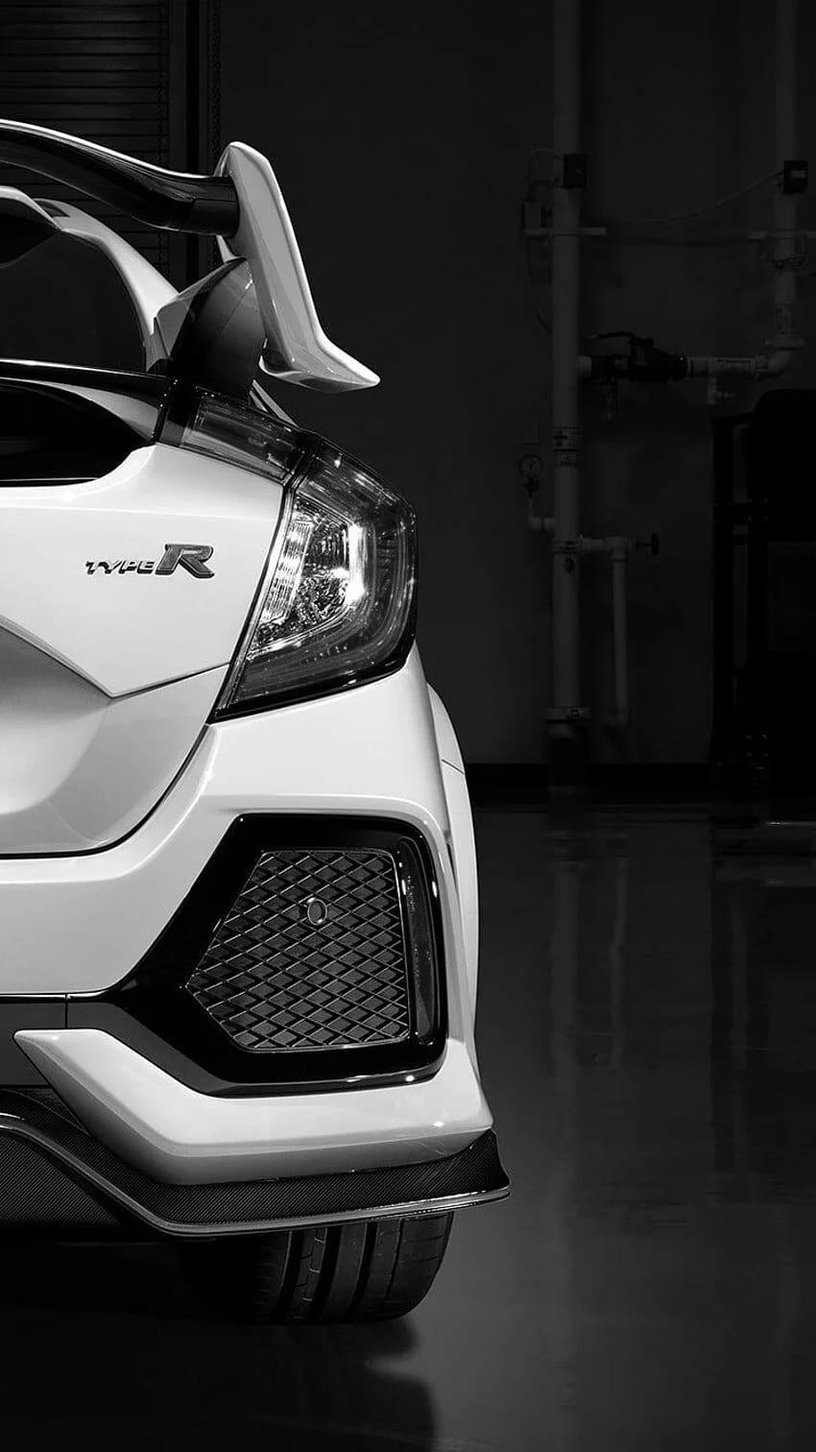Car boot: (0, 356, 286, 876)
Rear bumper: (0, 651, 514, 1256)
Rear light - -R-: (207, 442, 423, 742)
